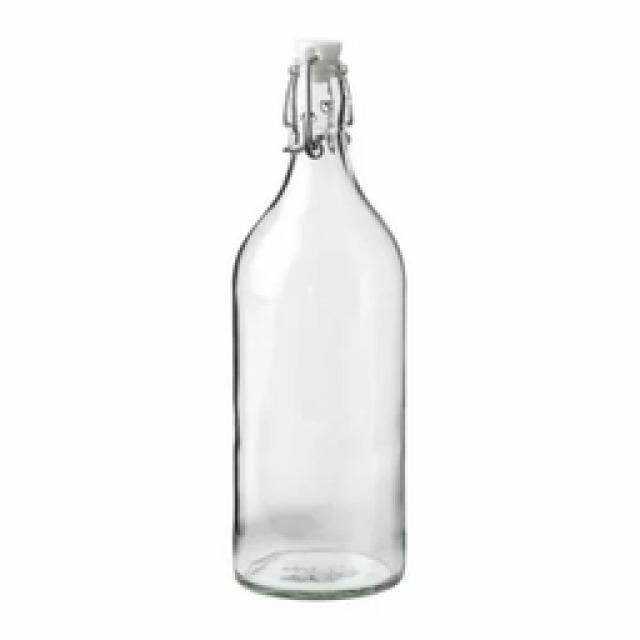glass_beverage_bottles: (230, 45, 413, 597)
